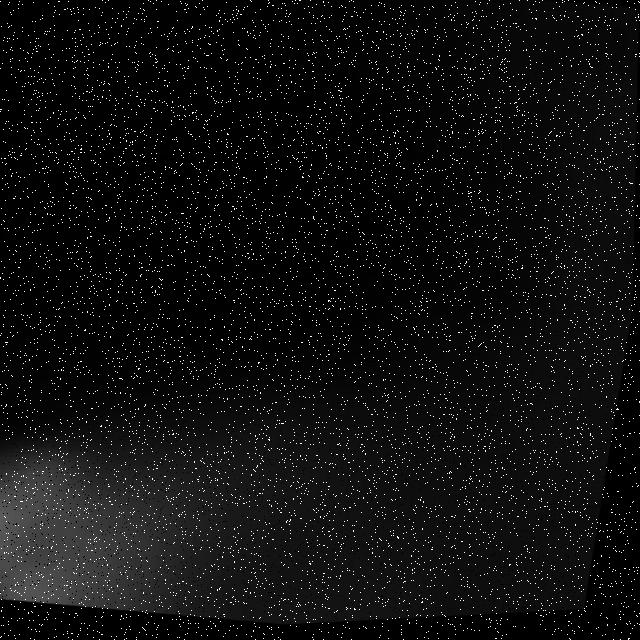person: (1, 402, 338, 640)
